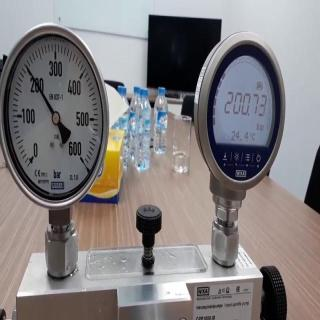gauge: (0, 17, 110, 210), (67, 140, 93, 174), (21, 144, 43, 170), (51, 112, 60, 124), (22, 62, 30, 70)
